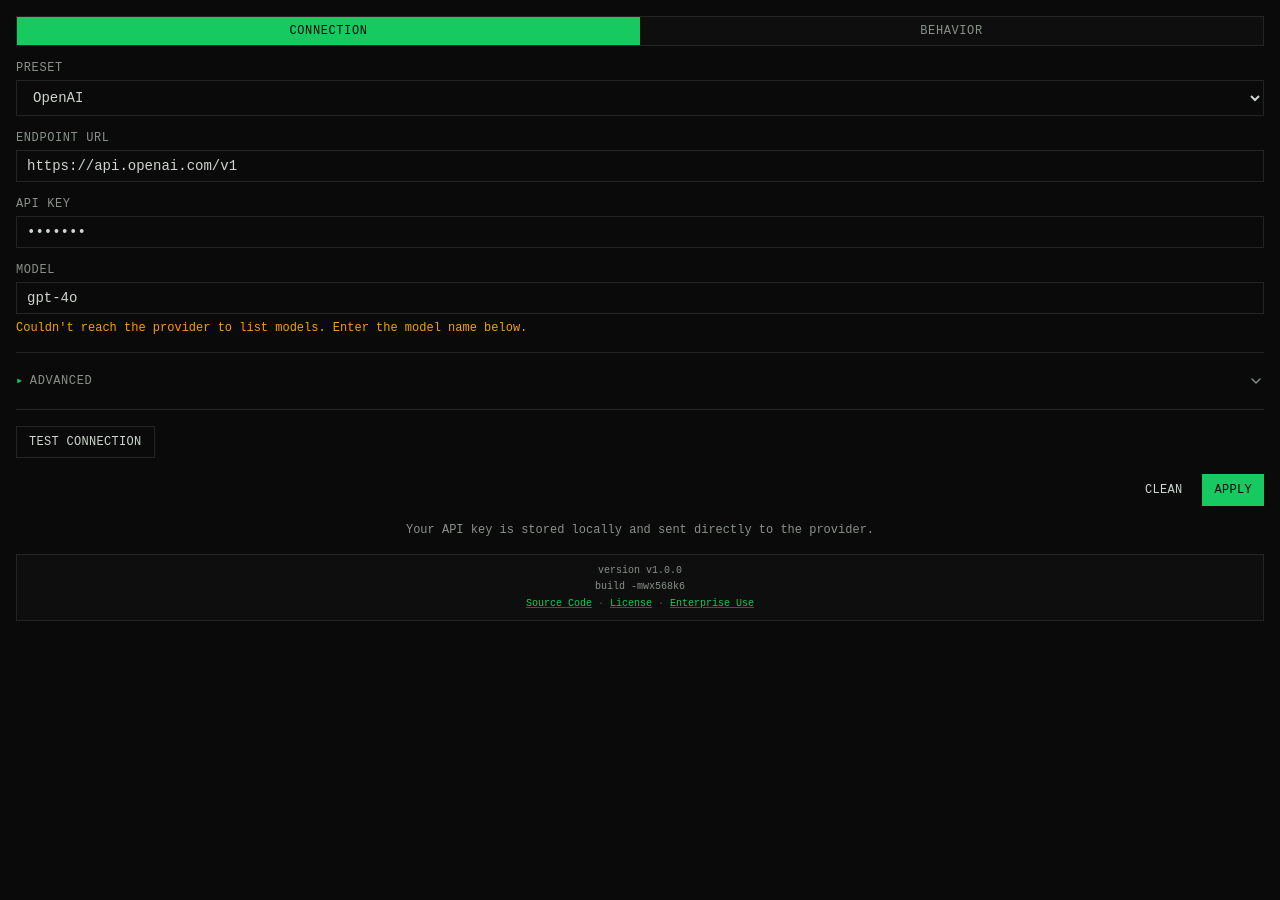
Test case: SettingsPanel › shows the legacy /chat/completions toggle for openai-compat providers
Click the button "▸Advanced" at x=61, y=381, box [16,369,1264,393]
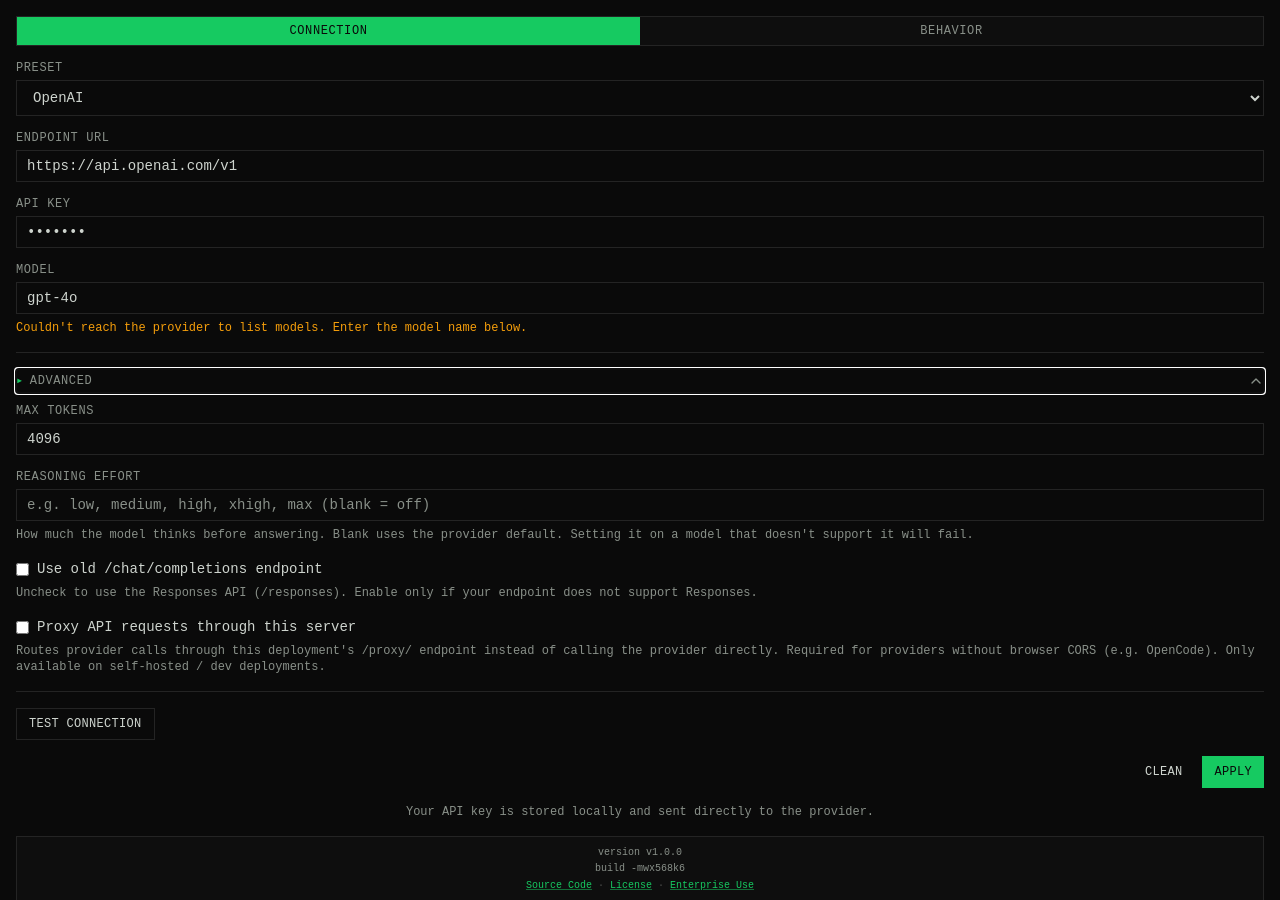
Result: the text "Use old /chat/completions endpoint" is shown at [16,561,323,577]
